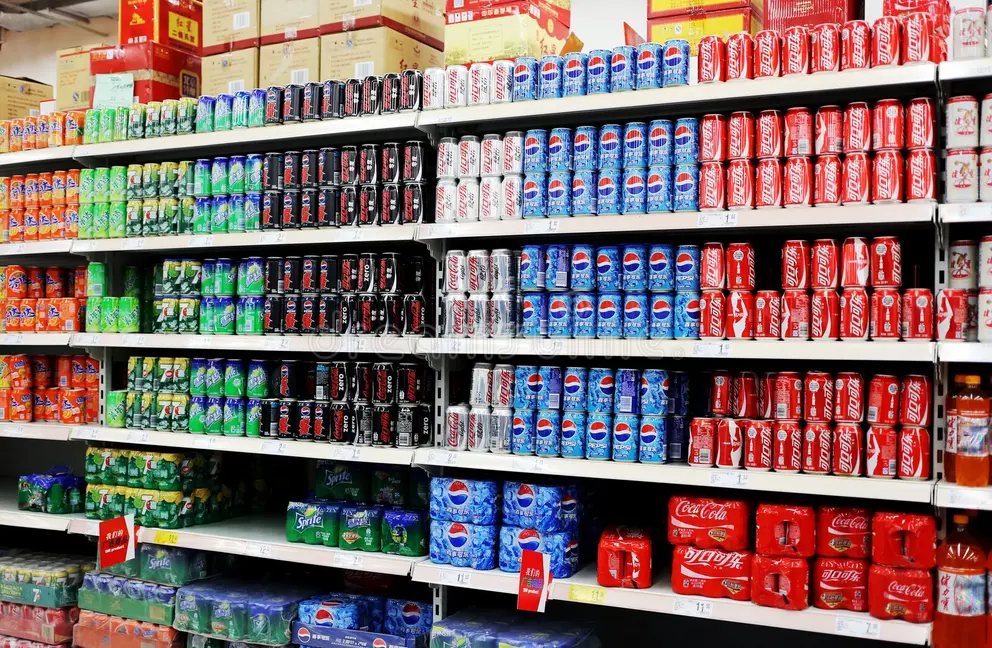soft_drink: (562, 363, 589, 416), (647, 164, 675, 214), (468, 361, 492, 413), (522, 127, 548, 174), (444, 247, 467, 295), (422, 67, 446, 111), (329, 360, 350, 404), (300, 147, 320, 189), (200, 257, 216, 304)
